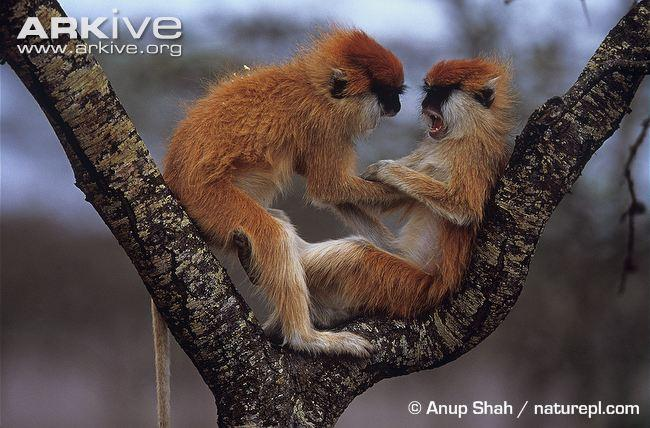monkey: (303, 58, 520, 320)
